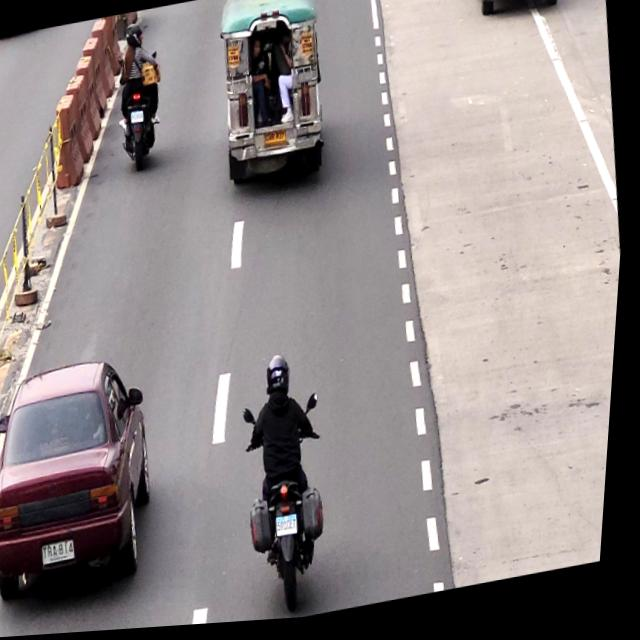Car: (0, 357, 173, 598), (468, 0, 565, 28)
Jeep: (208, 0, 338, 198)
License-Plate: (45, 540, 85, 569), (262, 129, 292, 156), (279, 518, 309, 541), (130, 108, 147, 125)
Motorcycle: (235, 357, 345, 626), (104, 16, 173, 182)
